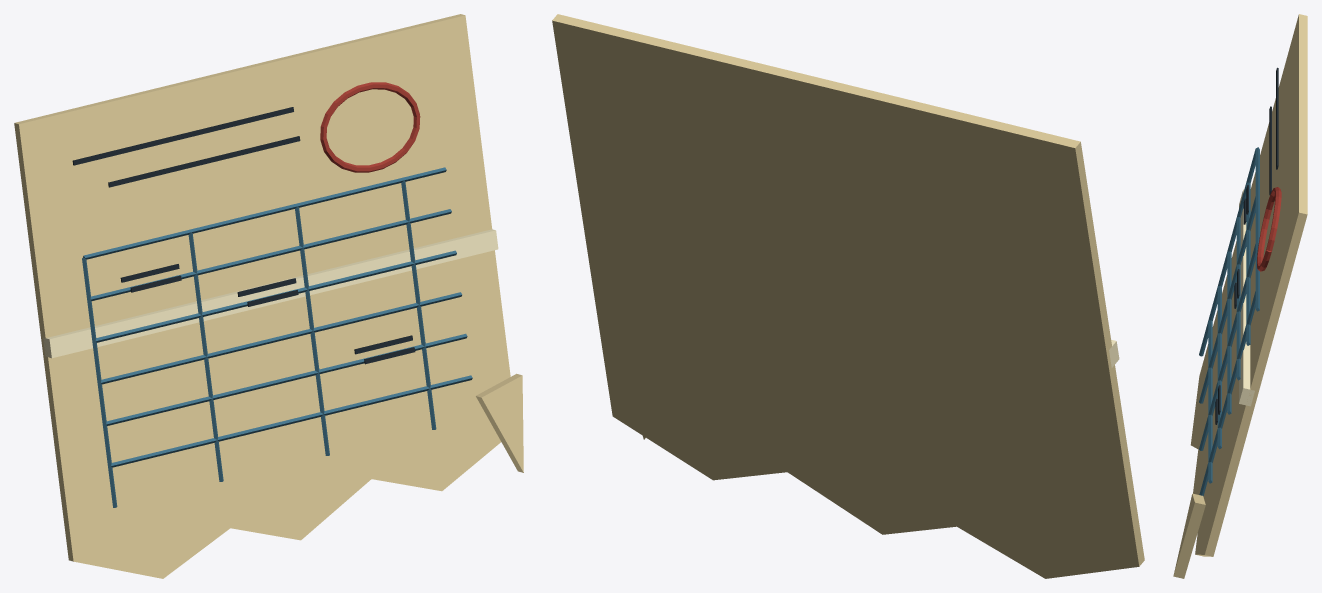
3 views of the same model, side by side, from view 1: azimuth 30°, elevation 25°; view 2: azimuth 150°, elevation 25°; view 3: azimuth 270°, elevation 25° (orthographic). The views are drawn at different scales.
Parts seen in each view (by area): view 1: C1-03_paper, C1-03_blue, C1-03_pale, C1-03_ink, C1-03_red; view 2: C1-03_paper; view 3: C1-03_paper, C1-03_blue, C1-03_pale, C1-03_red, C1-03_ink.
Part boxes in pixels (x1=…): C1-03_paper: x1=14, y1=14, x2=523, y2=578; C1-03_blue: x1=82, y1=167, x2=472, y2=507; C1-03_pale: x1=43, y1=229, x2=498, y2=358; C1-03_ink: x1=72, y1=107, x2=415, y2=364; C1-03_red: x1=320, y1=82, x2=420, y2=172; C1-03_paper: x1=552, y1=14, x2=1144, y2=578; C1-03_paper: x1=1173, y1=14, x2=1307, y2=578; C1-03_blue: x1=1199, y1=147, x2=1259, y2=496; C1-03_pale: x1=1239, y1=189, x2=1254, y2=406; C1-03_red: x1=1257, y1=187, x2=1281, y2=271; C1-03_ink: x1=1215, y1=67, x2=1278, y2=424.
Size of the model in its own units: 0.42 by 0.3901 by 0.1201.
